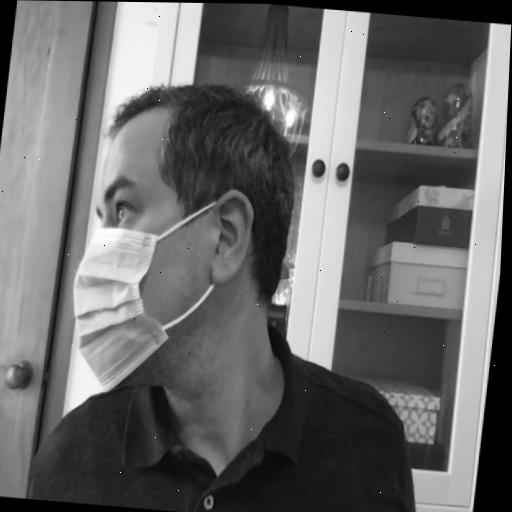mask: (61, 72, 311, 406)
